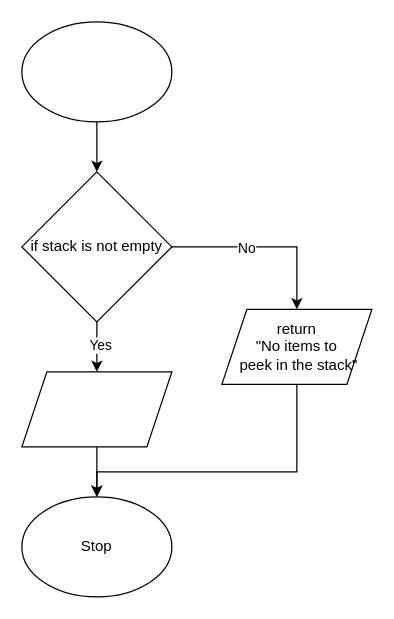
The diagram is 394 pixels wide and 619 high, and some of its shapes have lost their labels. The shapes that lost their labels are listed below. From the top down, each one's centre as x and y in pixels, then its label:
point (96, 71): Start
point (96, 409): return the last item in the list
